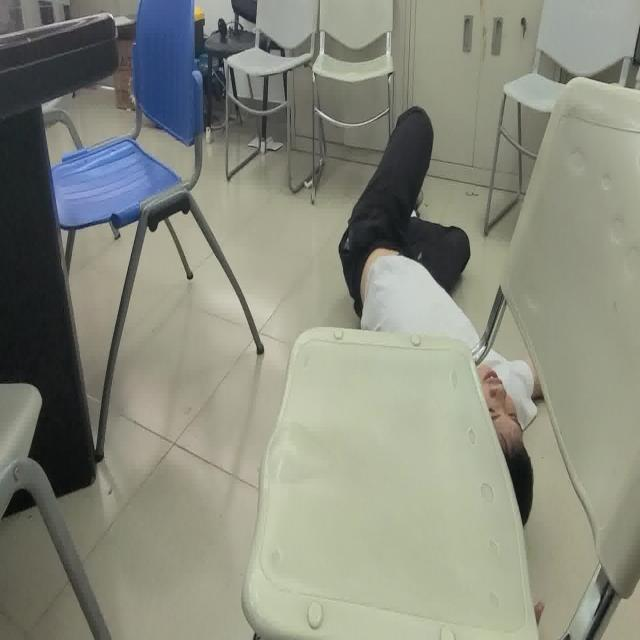fall: (337, 102, 549, 634)
